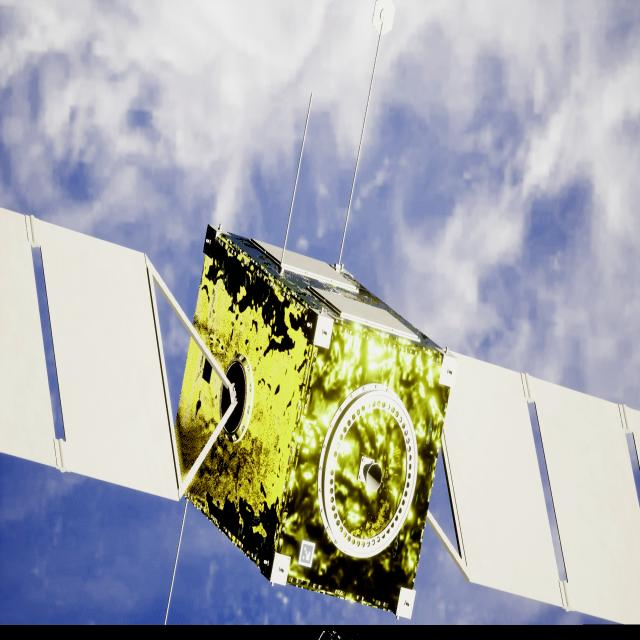satellite: (0, 208, 640, 627)
